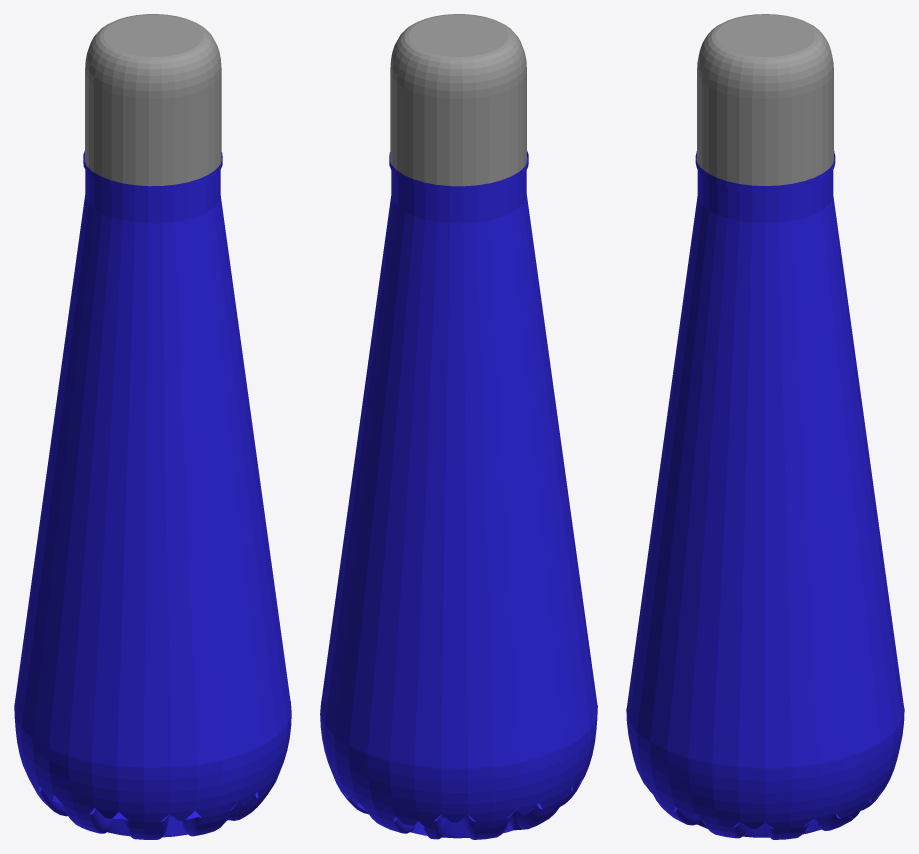
File: termo.fbx
The picture shows the model from 3 angles, left to right: view 1: azimuth 30°, elevation 25°; view 2: azimuth 150°, elevation 25°; view 3: azimuth 270°, elevation 25°; orthographic projection.
Visible parts, largest first — view 1: Cylinder, Cylinder.001; view 2: Cylinder, Cylinder.001; view 3: Cylinder, Cylinder.001.
Part boxes in pixels (x1,y1,x2,y2): Cylinder: (14, 151, 291, 839); Cylinder.001: (85, 14, 221, 186); Cylinder: (320, 151, 597, 839); Cylinder.001: (390, 14, 526, 186); Cylinder: (626, 151, 904, 839); Cylinder.001: (697, 14, 833, 185).
Size of the model in its own units: 200 by 606 by 200.
